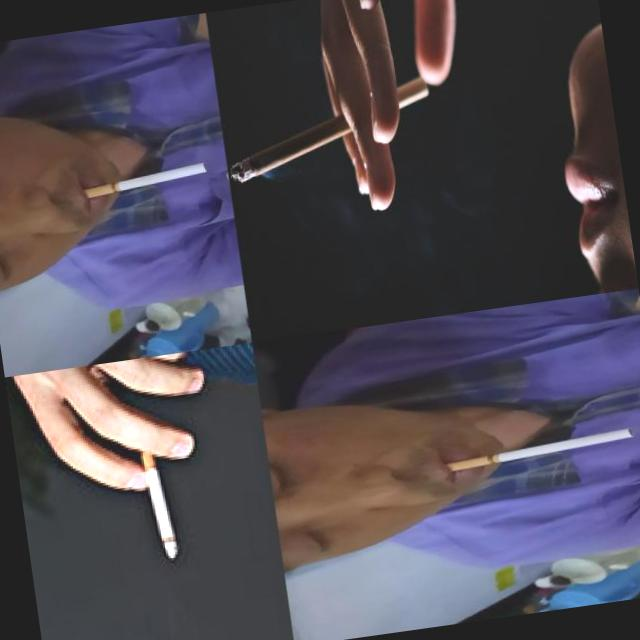cigarette: (221, 74, 438, 187), (445, 427, 637, 472), (81, 160, 211, 199), (138, 454, 178, 568)
